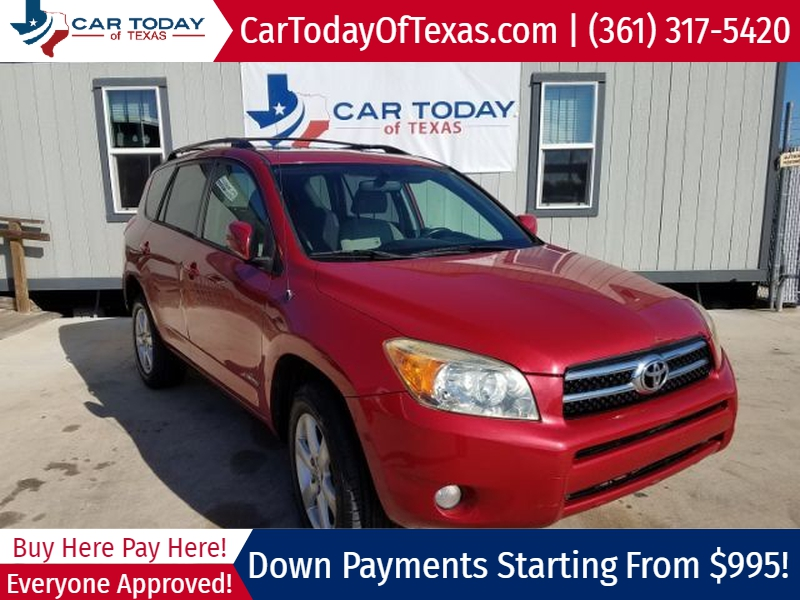Toyota RAV-4: (118, 133, 745, 533)
